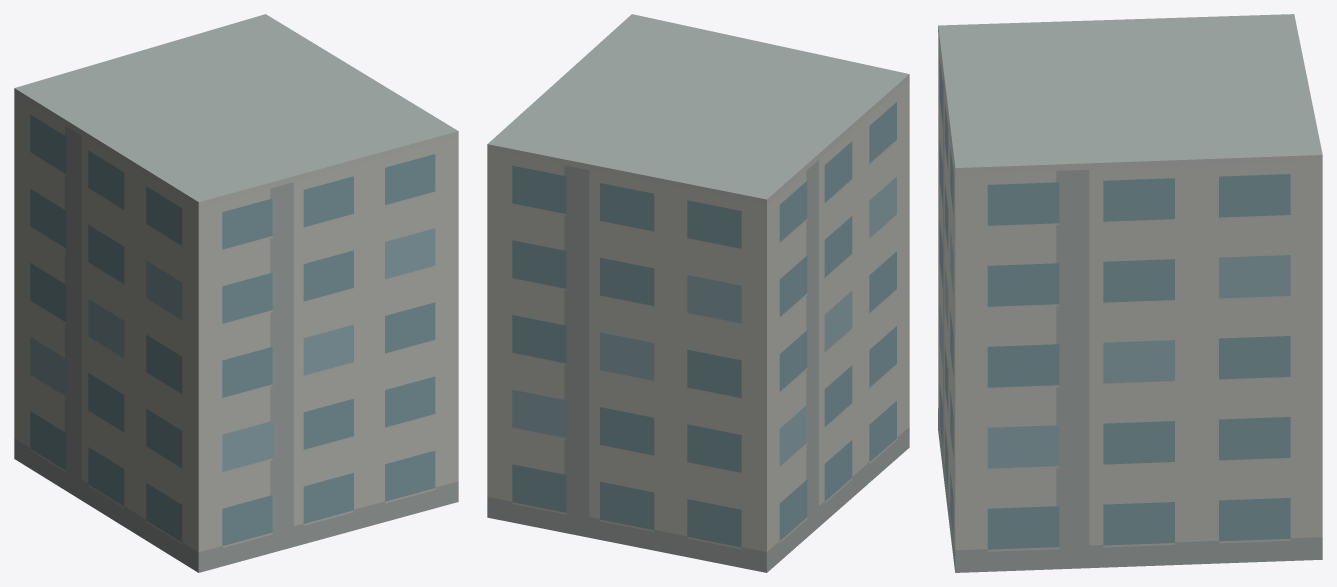
File: survey-upis-32823484.glb
3 renders of one model, left to right at view 1: azimuth 30°, elevation 25°; view 2: azimuth 150°, elevation 25°; view 3: azimuth 270°, elevation 25°, orthographic. The views are drawn at different scales.
Visible parts, largest first — view 1: survey-upis-32823484.tmp; view 2: survey-upis-32823484.tmp; view 3: survey-upis-32823484.tmp.
Boxes of the visible parts, x1,y1,x2,y2 form: survey-upis-32823484.tmp: [14, 14, 458, 572]; survey-upis-32823484.tmp: [487, 14, 909, 572]; survey-upis-32823484.tmp: [938, 14, 1322, 572].
Size of the model in its own units: 12.5 by 15.3 by 13.18.
